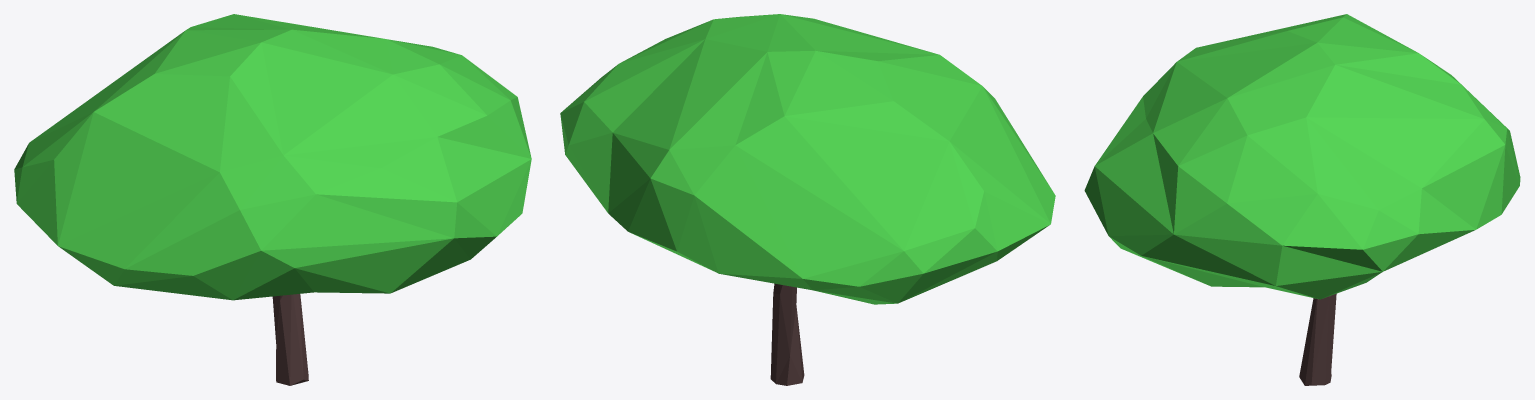
3 views of the same model, side by side, from view 1: azimuth 30°, elevation 25°; view 2: azimuth 150°, elevation 25°; view 3: azimuth 270°, elevation 25° (orthographic). The views are drawn at different scales.
Parts seen in each view (by area): view 1: leaves_Icosphere.003, trunk_Cube; view 2: leaves_Icosphere.003, trunk_Cube; view 3: leaves_Icosphere.003, trunk_Cube.
Boxes of the visible parts, x1,y1,x2,y2 form: leaves_Icosphere.003: (14,14,531,300); trunk_Cube: (272,294,308,385); leaves_Icosphere.003: (560,14,1055,304); trunk_Cube: (770,283,804,385); leaves_Icosphere.003: (1084,14,1520,299); trunk_Cube: (1299,293,1336,385).
Bounding box in the file's own units: 1362 × 967 × 1177.
